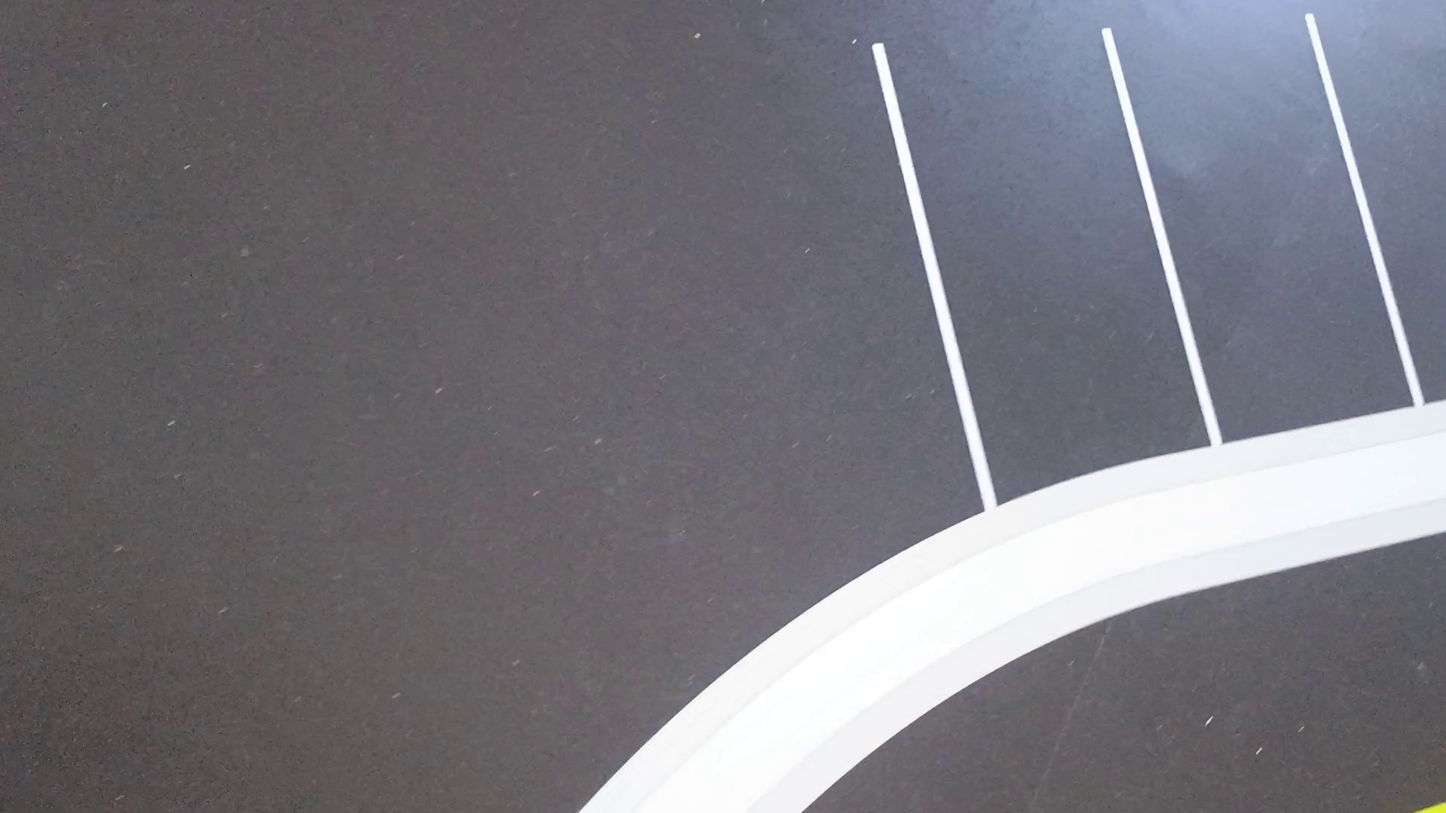Parking: (876, 27, 1221, 507), (1106, 14, 1420, 443)
Street: (0, 0, 1445, 812), (810, 533, 1445, 812)
